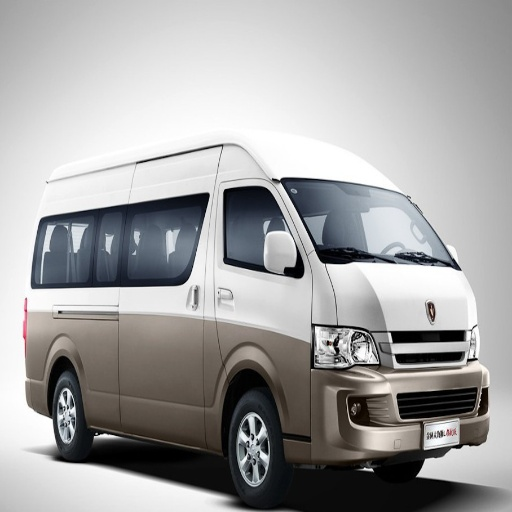front_bumper: (304, 328, 490, 460)
front_glass: (285, 181, 453, 267)
front_right_door: (215, 146, 312, 327), (120, 369, 203, 437)
front_right_light: (314, 327, 379, 369)
trunk: (21, 292, 304, 436)
